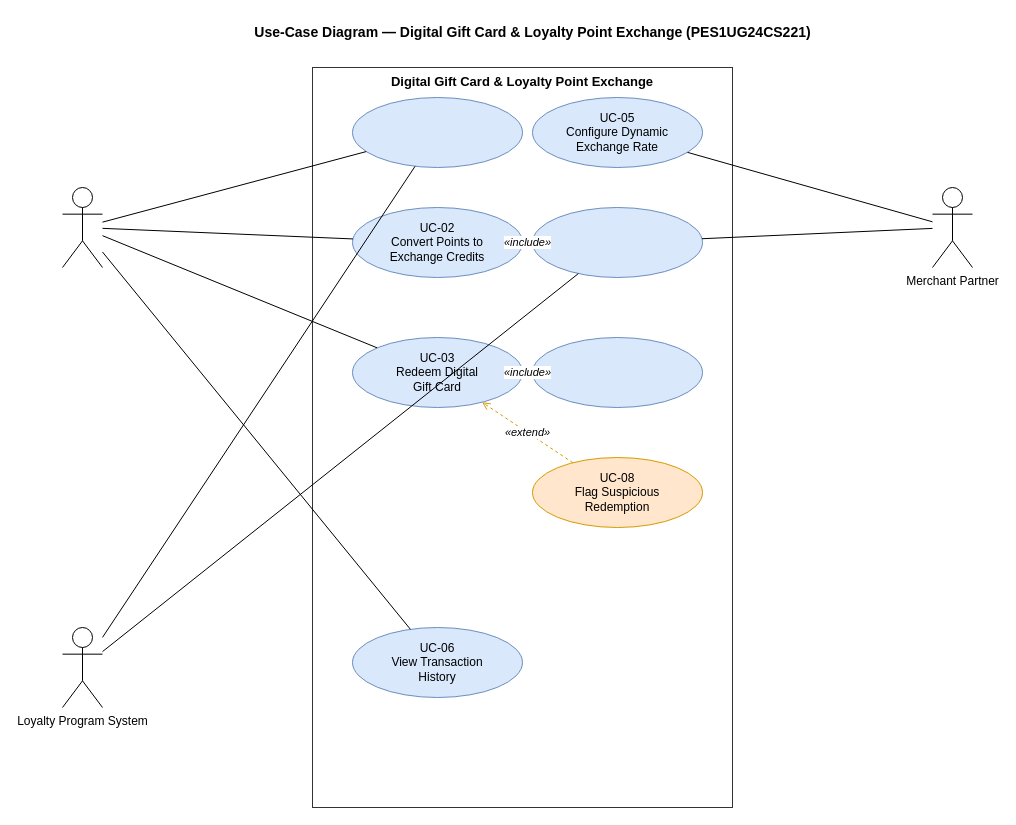
Some shapes in this 1016 by 825 pixel diagram are drawn without their labels. Each missing label, with the centre of its shape:
"Account Holder" belongs at point 82,227.
"UC-01 Link & Aggregate Loyalty Accounts" belongs at point 437,132.
"UC-04 Validate & Lock Voucher" belongs at point 617,372.
"UC-07 Validate Loyalty Points" belongs at point 617,242.
